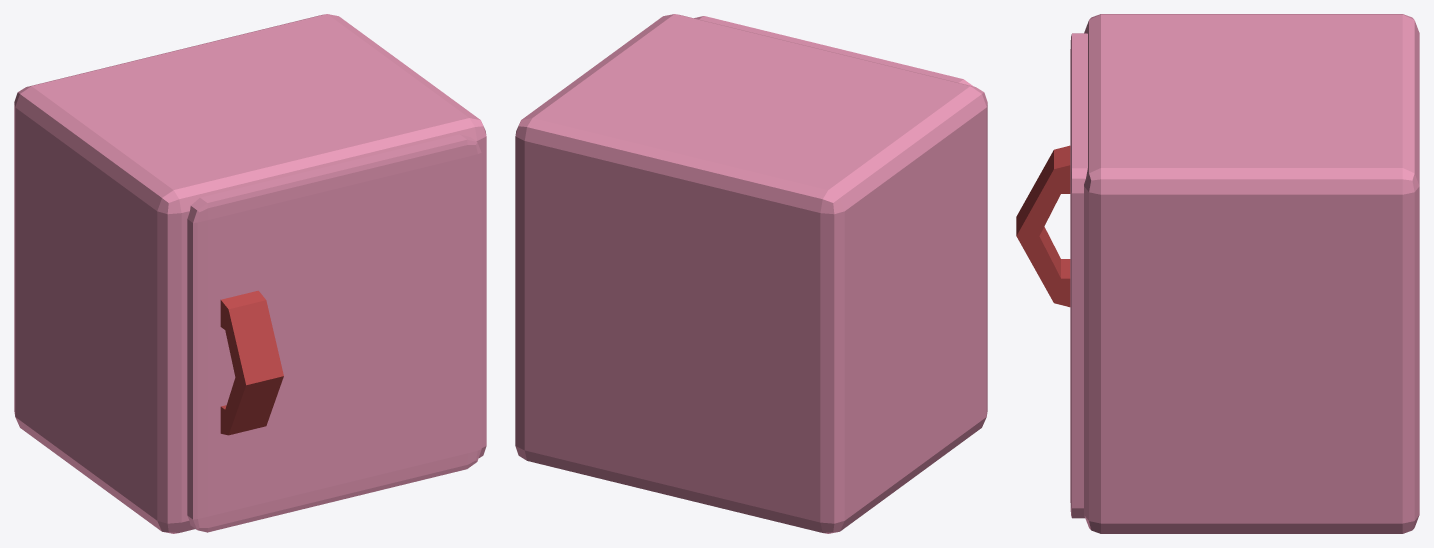
File: fridge1_asset.fbx
The picture shows the model from 3 angles, left to right: view 1: azimuth 30°, elevation 25°; view 2: azimuth 150°, elevation 25°; view 3: azimuth 270°, elevation 25°; orthographic projection. The views are drawn at different scales.
Visible parts, largest first — view 1: Cube.215; view 2: Cube.215; view 3: Cube.215.
Part boxes in pixels (x1,y1,x2,y2): Cube.215: (14, 14, 486, 533); Cube.215: (515, 14, 987, 533); Cube.215: (1016, 14, 1419, 533).
Bounding box in the file's own units: 100 × 100 × 100.
Materials: 2 (2 with a texture image).
